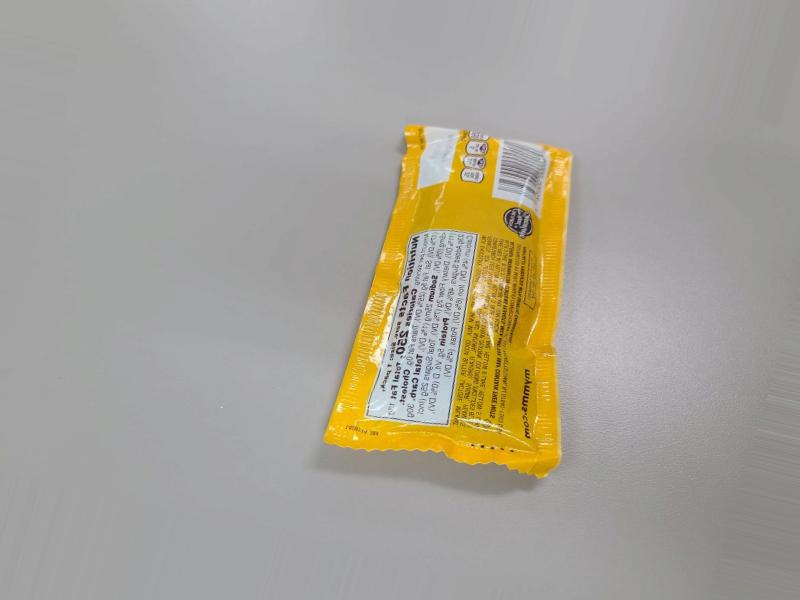m&m: (304, 112, 542, 491)
